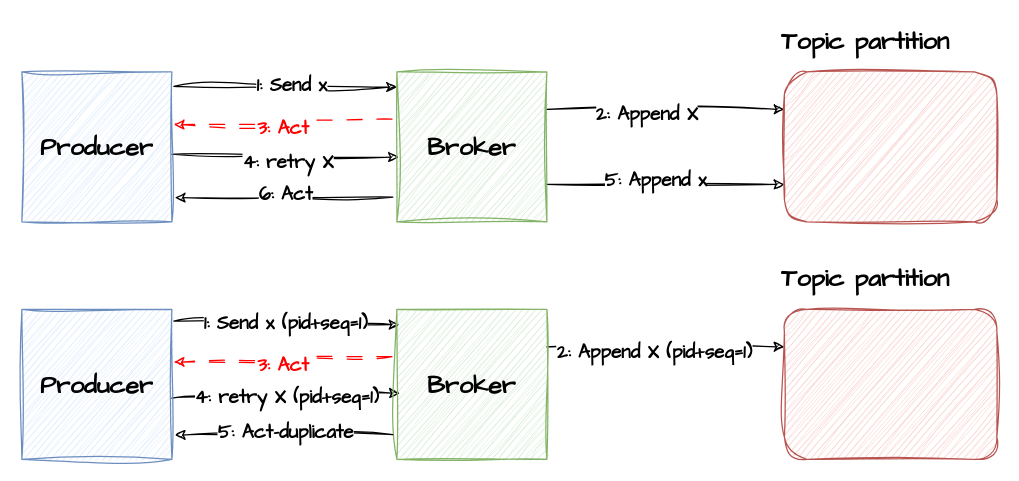
Image size: 1019x481. Some labels were removed from this diagram. The centre of each missing label's shape, as x and y in pixels:
"X(pid+seq=1)" goes at point 890,383.
"X, X" goes at point 890,146.
